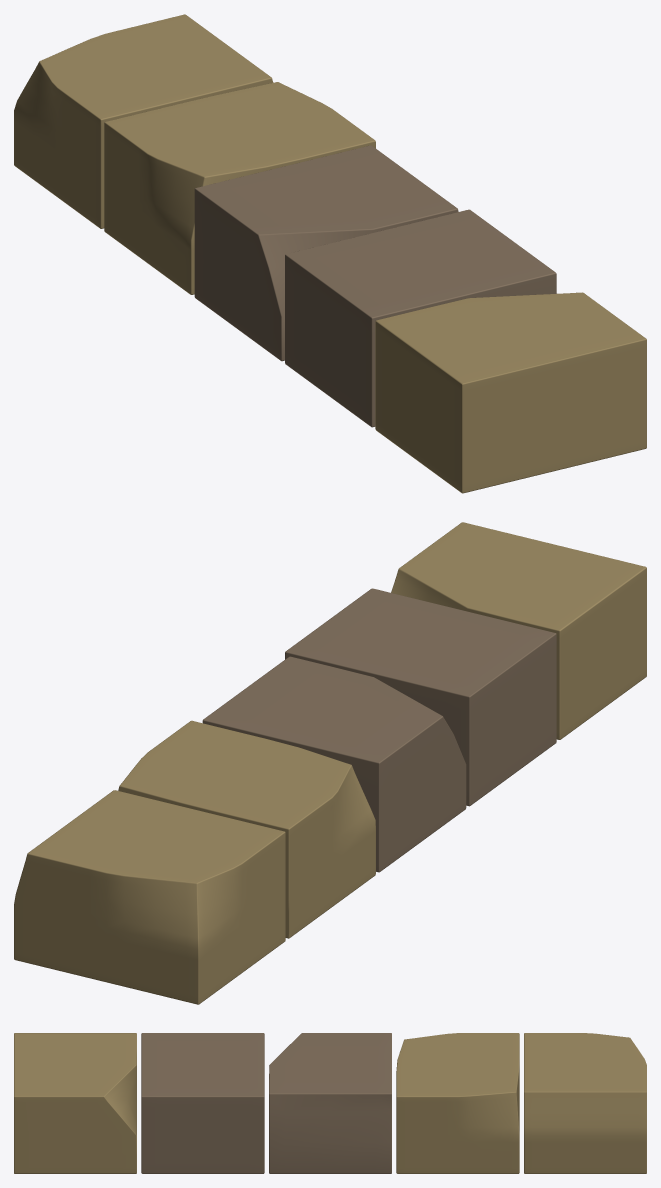
Rendered from FBX_PiedrasBorde_lvl2.fbx.
3 renders of one model, top to bottom at view 1: azimuth 30°, elevation 25°; view 2: azimuth 150°, elevation 25°; view 3: azimuth 270°, elevation 25°, orthographic. The views are drawn at different scales.
Visible parts, largest first — view 1: polySurface3, polySurface4, polySurface2, polySurface5, polySurface1; view 2: polySurface1, polySurface4, polySurface3, polySurface2, polySurface5; view 3: polySurface4, polySurface3, polySurface2, polySurface1, polySurface5.
Part boxes in pixels (x1=…): polySurface3: x1=375, y1=292, x2=646, y2=493; polySurface4: x1=285, y1=209, x2=556, y2=427; polySurface2: x1=104, y1=82, x2=375, y2=294; polySurface5: x1=194, y1=145, x2=458, y2=361; polySurface1: x1=14, y1=14, x2=273, y2=228; polySurface1: x1=14, y1=790, x2=285, y2=1004; polySurface4: x1=285, y1=588, x2=556, y2=806; polySurface3: x1=391, y1=522, x2=646, y2=739; polySurface2: x1=118, y1=720, x2=375, y2=938; polySurface5: x1=202, y1=656, x2=466, y2=872; polySurface4: x1=141, y1=1033, x2=264, y2=1173; polySurface3: x1=14, y1=1033, x2=136, y2=1173; polySurface2: x1=396, y1=1033, x2=519, y2=1173; polySurface1: x1=524, y1=1033, x2=646, y2=1173; polySurface5: x1=269, y1=1033, x2=391, y2=1173.
Bounding box in the file's own units: 59.16 × 33.61 × 248.
